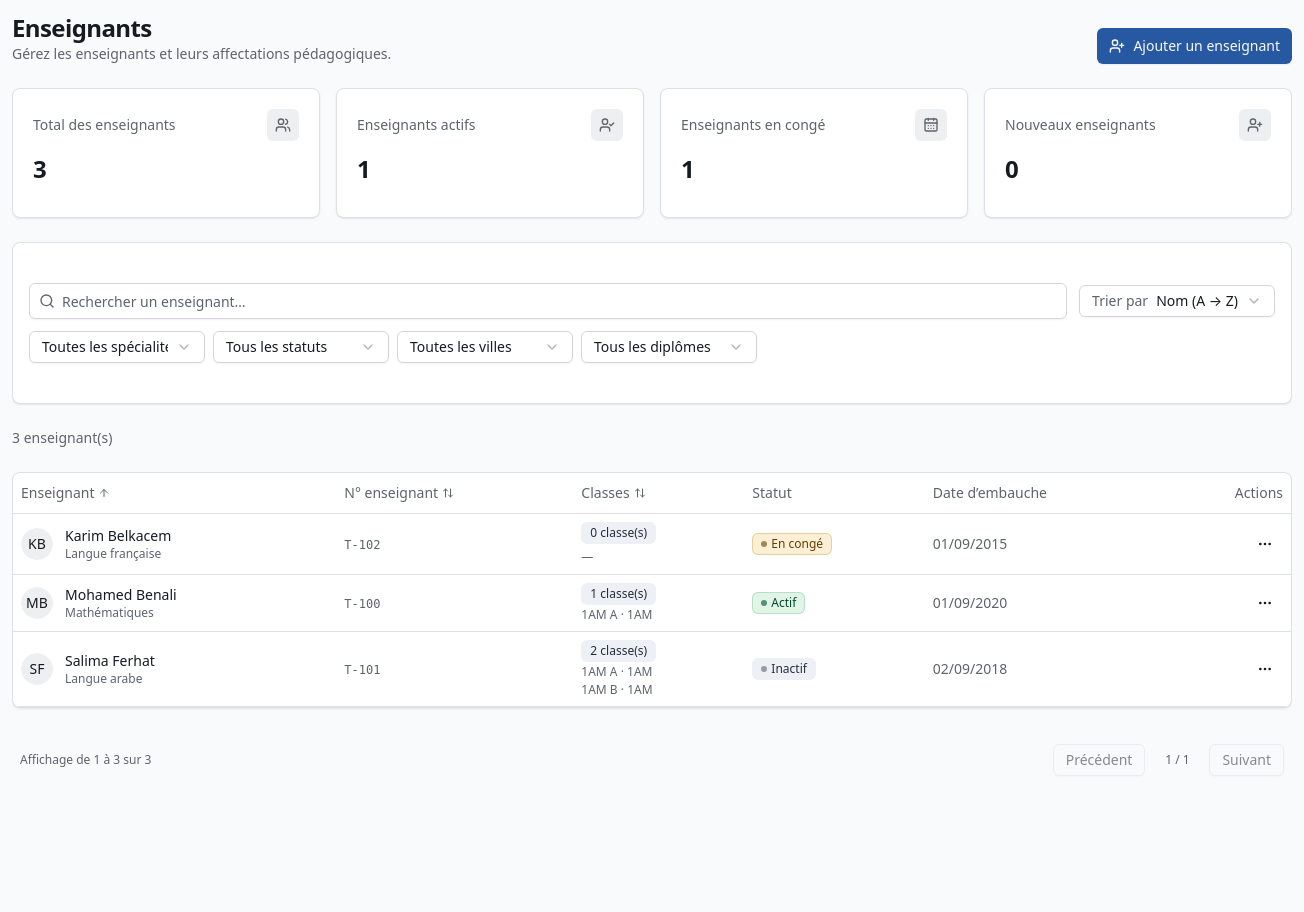
Scenario: TeachersPage › filters by search (debounced)
Expected: the link "Mohamed Benali" is shown, [65,584,177,604]
Type "Ferhat" into the field labelled "Rechercher un enseignant…".
click(548, 301); type("Ferhat")  # box [29,283,1067,319]
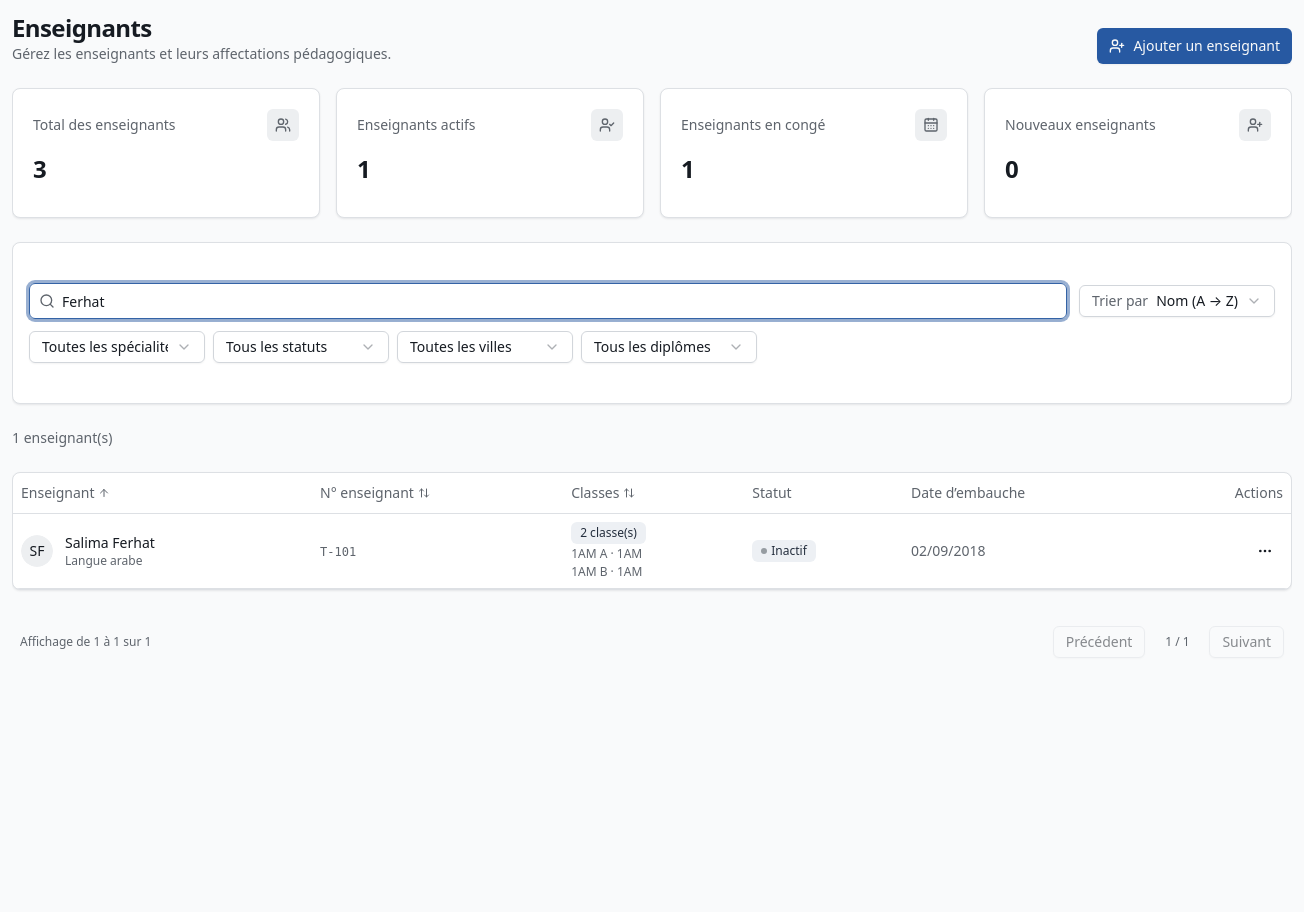
Expected: the link "Salima Ferhat" is shown, [65,532,155,552]
Now the link "Mohamed Benali" is gone
